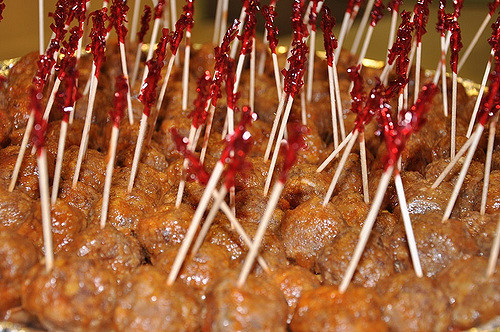meatballs: (9, 61, 495, 327)
